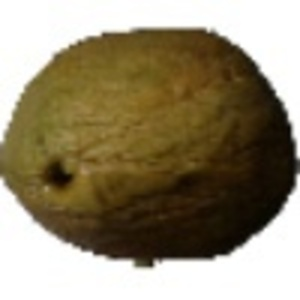mamão: (6, 25, 291, 269)
